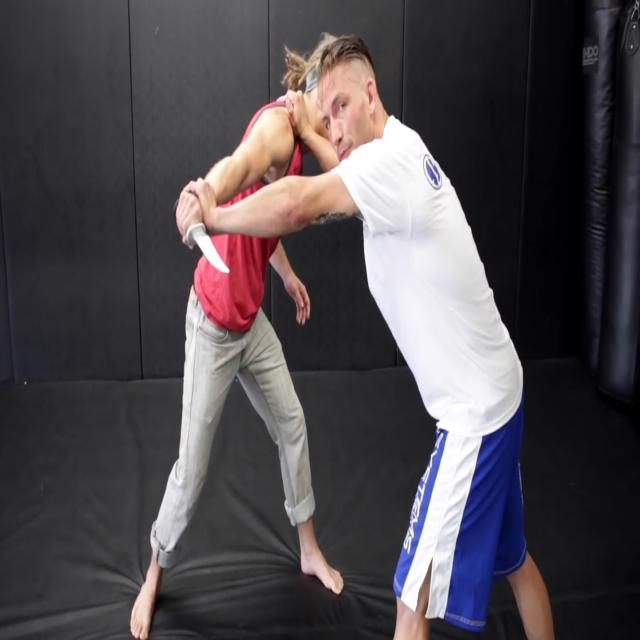knife: (193, 236, 233, 278)
